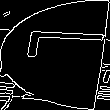L_E: (5, 37, 105, 73)
